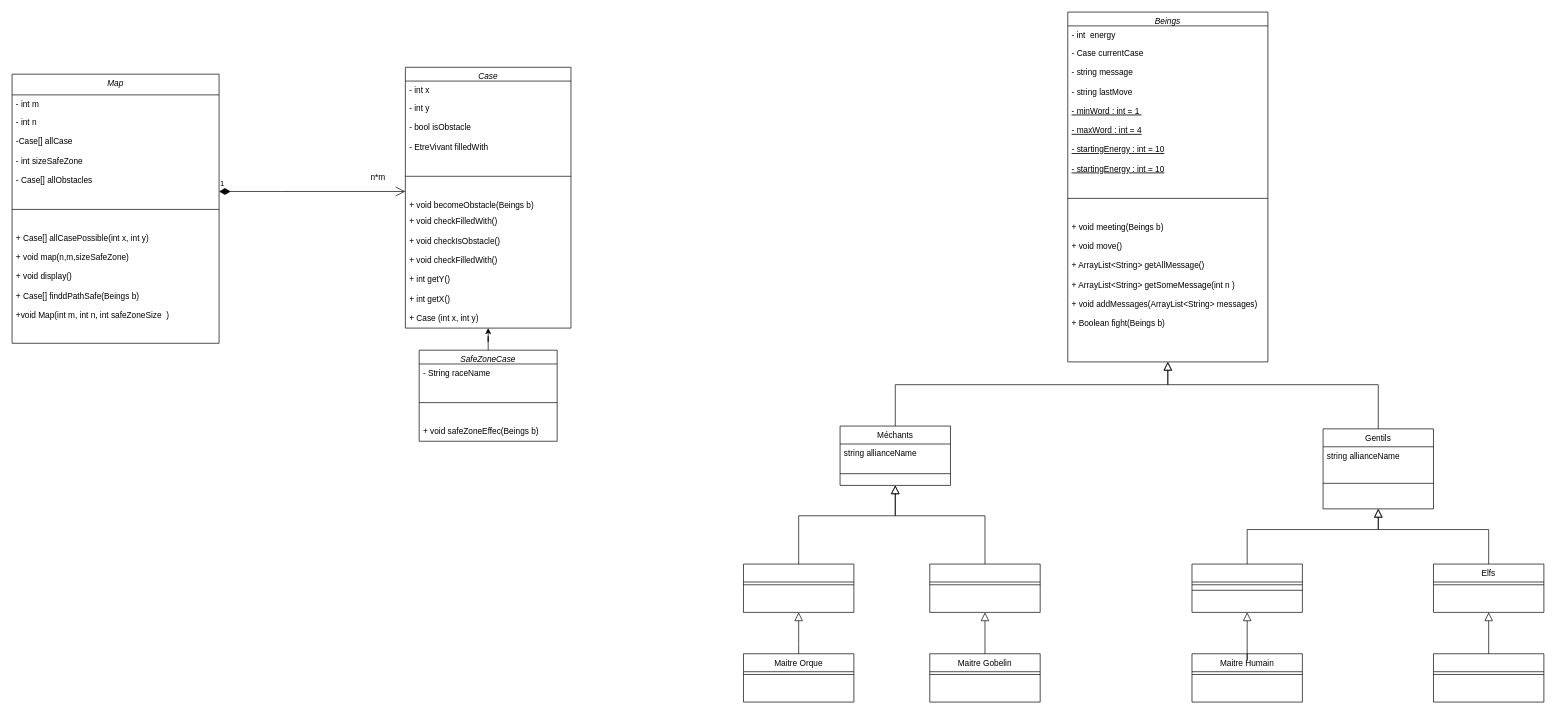
Some shapes in this 1556 by 714 pixel diagram are drawn without their labels. The shapes that lost their labels are listed below. From the top down, each one's centre as x and y in pixels, then its label:
(x=798, y=587): Orques
(x=984, y=587): Gobelins
(x=1246, y=587): Humains
(x=1488, y=677): Maitre Elfe
